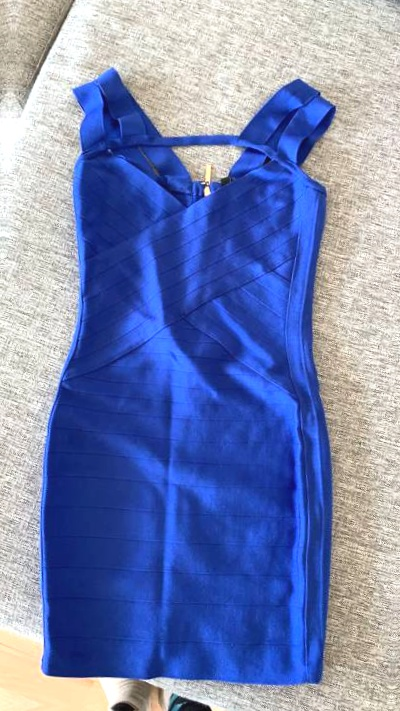Dress: (3, 56, 382, 696)
